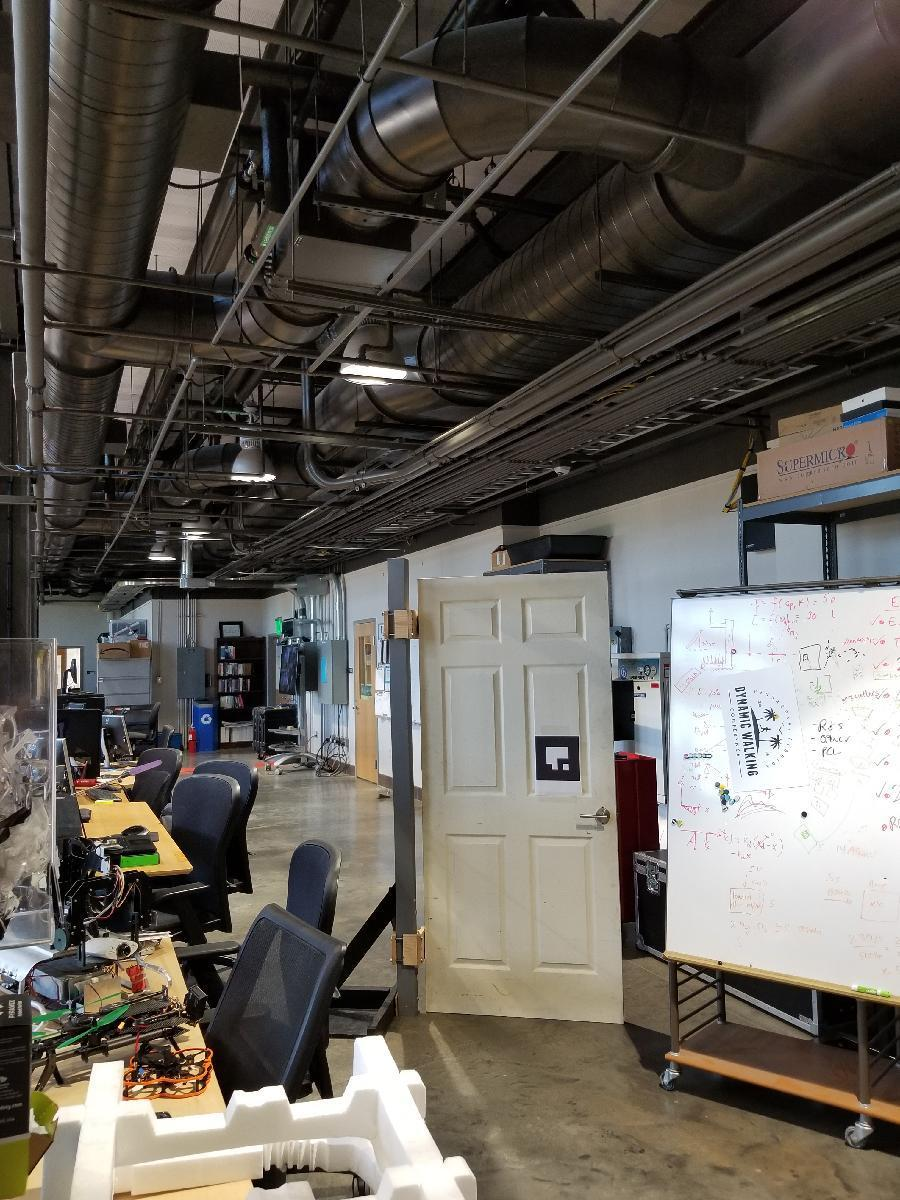door: (414, 573, 624, 1021)
handle: (579, 803, 613, 829)
